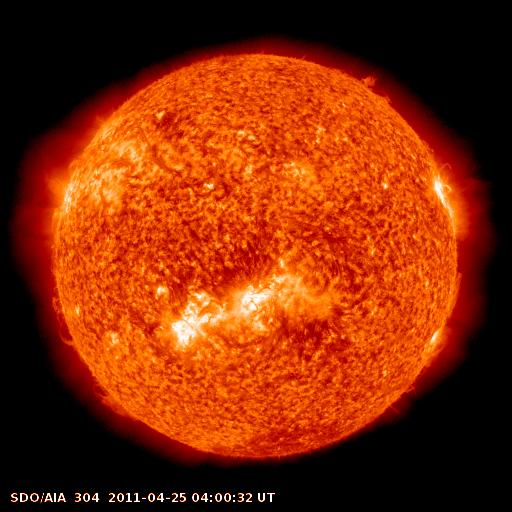prominence: (88, 374, 144, 425), (351, 65, 403, 109), (47, 289, 82, 349), (442, 265, 469, 319)
